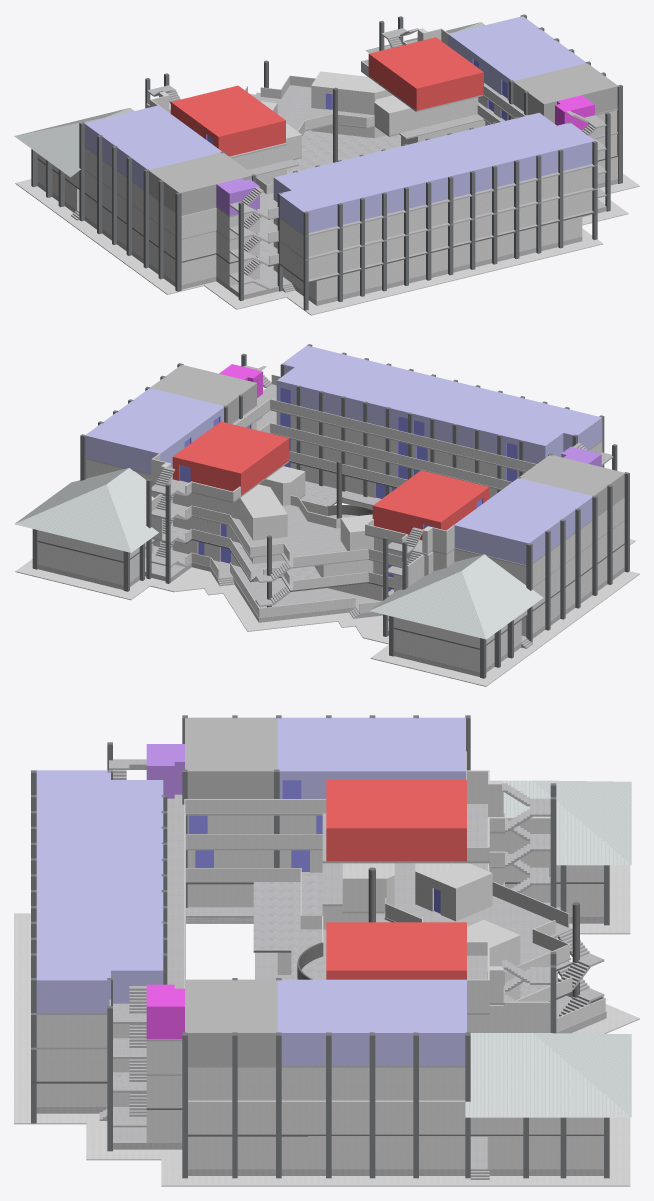
Rendered from Annex 13F.gltf.
3 renders of one model, top to bottom at view 1: azimuth 30°, elevation 25°; view 2: azimuth 150°, elevation 25°; view 3: azimuth 270°, elevation 25°, orthographic. The views are drawn at different scales.
Parts seen in each view (by area): view 1: object 163, object 153, Column#2 (×15), object 3, object 161, object 152, object 160, object 147, Column#1 (×8), object 87, object 62, object 154 (+31 smaller); view 2: object 163, object 153, object 70, object 3, object 152, object 69, object 160, object 161, object 11, object 80, object 147, object 148 (+31 smaller); view 3: object 153, object 3, object 160, object 69, object 163, object 152, object 147, object 62, object 161, object 157, object 70, object 154 (+37 smaller).
Boxes of the visible parts, <box> form: object 163: <box>273,145,449,233</box>; object 153: <box>407,112,594,197</box>; Column#2 (×15): <box>238,112,610,310</box>; object 3: <box>15,173,639,315</box>; object 161: <box>368,37,483,110</box>; object 152: <box>84,105,221,188</box>; object 160: <box>448,16,585,100</box>; object 147: <box>170,85,285,156</box>; Column#1 (×8): <box>79,84,622,291</box>; object 87: <box>85,85,617,260</box>; object 62: <box>37,130,617,283</box>; object 154: <box>149,152,252,214</box>; object 163: <box>411,381,602,463</box>; object 153: <box>276,345,453,432</box>; object 70: <box>369,554,543,639</box>; object 3: <box>15,499,639,686</box>; object 152: <box>454,478,592,564</box>; object 69: <box>14,468,158,552</box>; object 160: <box>85,388,223,473</box>; object 161: <box>172,421,289,495</box>; object 11: <box>37,481,624,676</box>; object 80: <box>185,423,511,567</box>; object 147: <box>372,470,489,539</box>; object 148: <box>185,374,536,544</box>; object 153: <box>36,875,163,1012</box>; object 3: <box>14,865,639,1186</box>; object 160: <box>277,979,466,1065</box>; object 69: <box>465,1033,631,1117</box>; object 163: <box>36,770,163,875</box>; object 152: <box>277,717,465,798</box>; object 147: <box>326,780,466,861</box>; object 62: <box>31,872,603,1136</box>; object 161: <box>326,922,466,979</box>; object 157: <box>185,979,277,1065</box>; object 70: <box>503,780,631,865</box>; object 154: <box>185,717,277,798</box>.
Bounding box in the file's own units: 63.61 × 13.28 × 50.1.
Materials: 11 (4 with a texture image).
